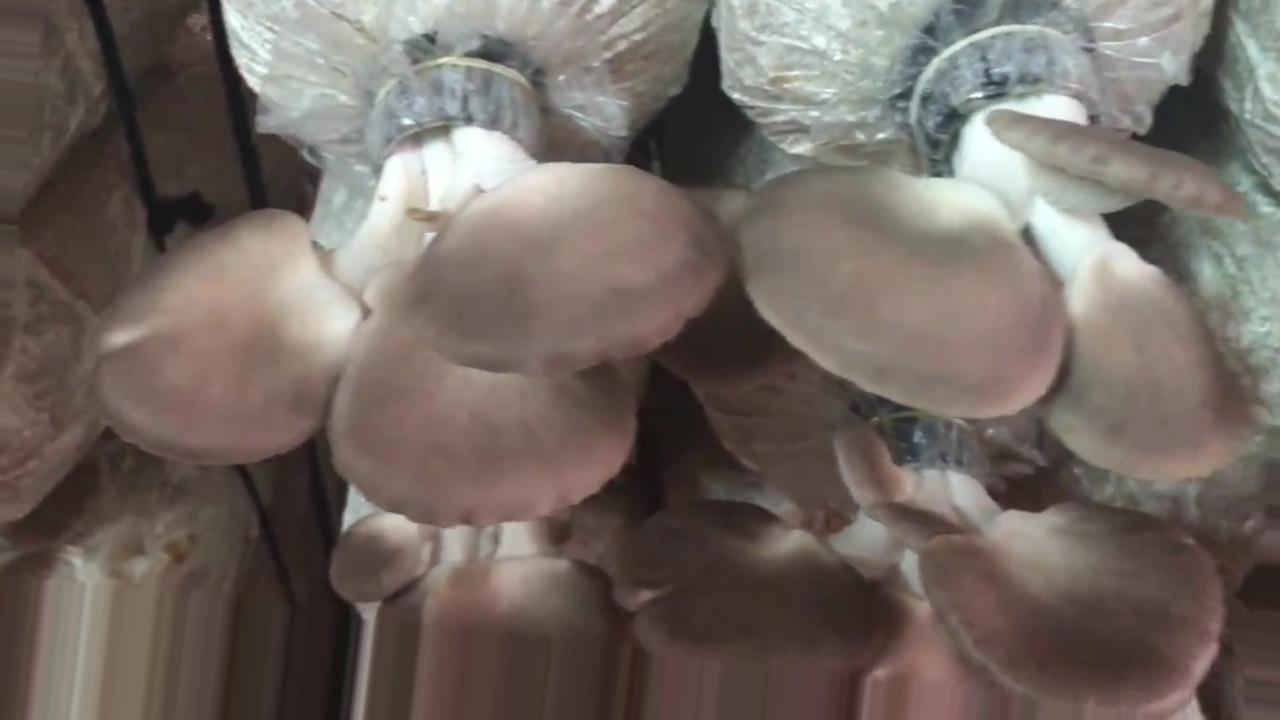nam: (96, 55, 727, 523), (742, 28, 1257, 474), (653, 432, 1225, 720), (330, 514, 639, 720)
